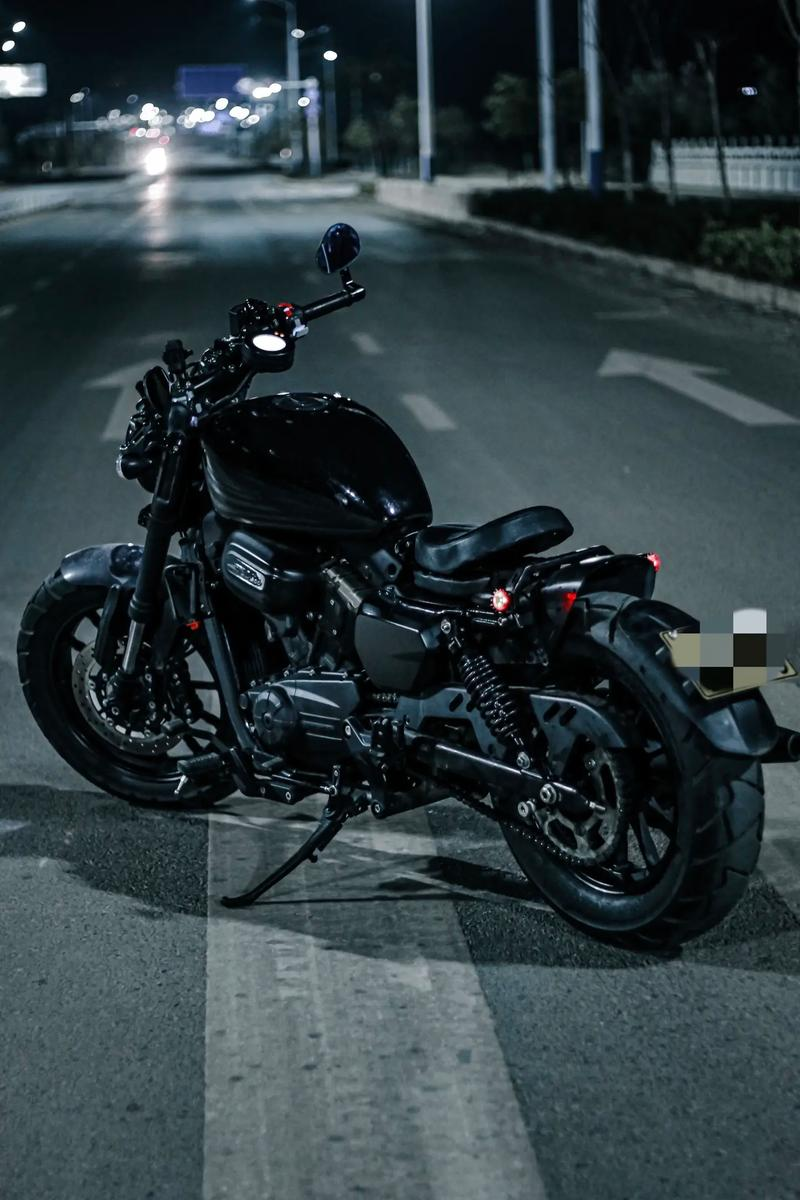摩托车: (13, 224, 800, 989)
